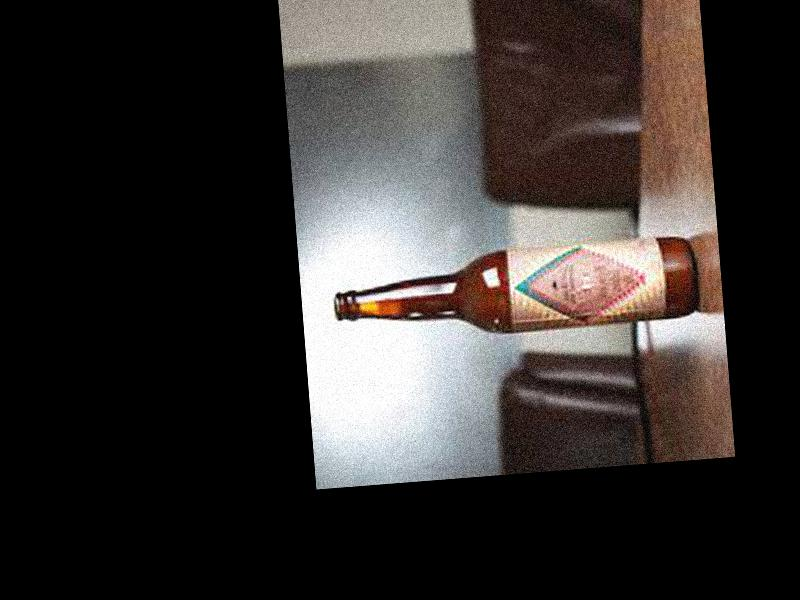Beer: (333, 237, 699, 345)
